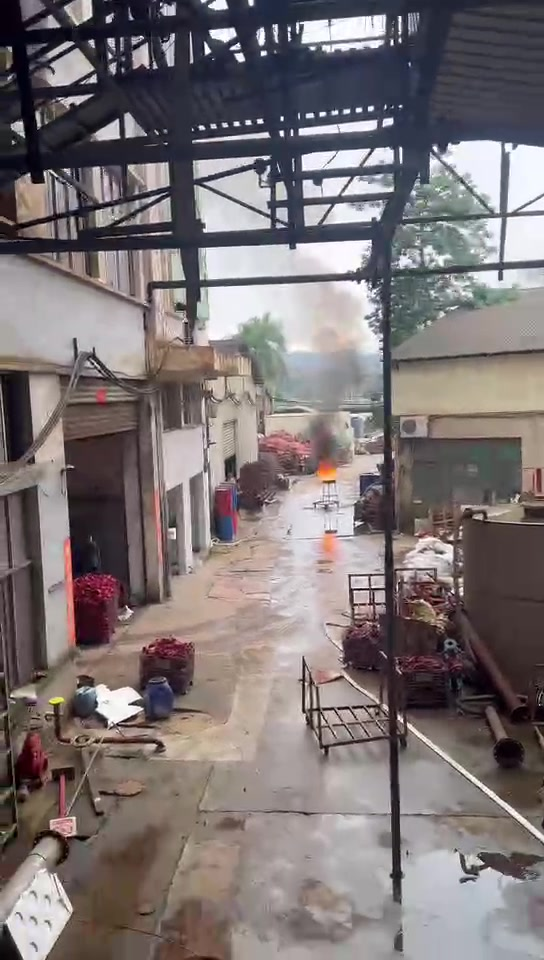fire: (317, 461, 336, 480)
